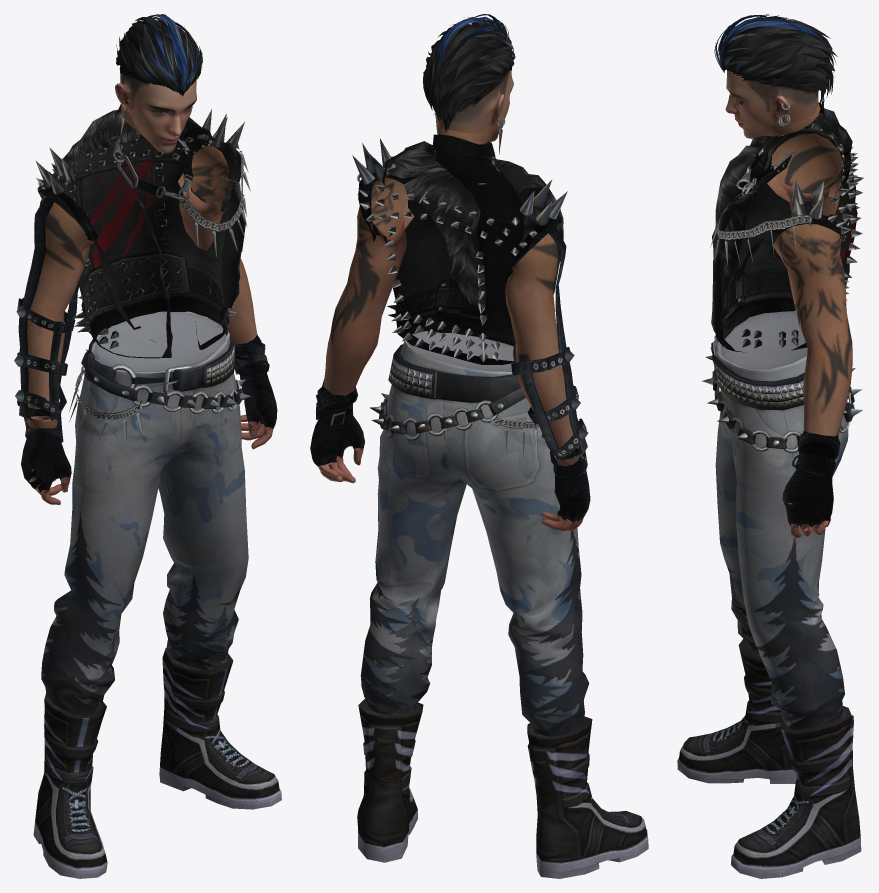
The model's file is A futuristic AI assistant standing naturally _variant1 (1).glb.
3 views of the same model, side by side, from view 1: azimuth 30°, elevation 25°; view 2: azimuth 150°, elevation 25°; view 3: azimuth 270°, elevation 25° (orthographic). The views are drawn at different scales.
Visible parts, largest first — view 1: Mesh_0099.rip, Mesh_0116.rip, Mesh_0098.rip, Mesh_0097.rip, Mesh_0117.rip; view 2: Mesh_0099.rip, Mesh_0116.rip, Mesh_0097.rip, Mesh_0098.rip, Mesh_0117.rip; view 3: Mesh_0099.rip, Mesh_0116.rip, Mesh_0098.rip, Mesh_0097.rip, Mesh_0117.rip.
Boxes of the visible parts, x1,y1,x2,y2 form: Mesh_0099.rip: [41, 311, 251, 714]; Mesh_0116.rip: [14, 104, 277, 492]; Mesh_0098.rip: [33, 648, 281, 878]; Mesh_0097.rip: [27, 60, 273, 504]; Mesh_0117.rip: [116, 14, 202, 96]; Mesh_0099.rip: [360, 331, 589, 736]; Mesh_0116.rip: [310, 134, 590, 522]; Mesh_0097.rip: [318, 70, 583, 531]; Mesh_0098.rip: [357, 699, 648, 878]; Mesh_0117.rip: [423, 14, 515, 132]; Mesh_0099.rip: [702, 311, 862, 729]; Mesh_0116.rip: [710, 99, 863, 529]; Mesh_0098.rip: [677, 639, 861, 878]; Mesh_0097.rip: [725, 70, 852, 538]; Mesh_0117.rip: [714, 14, 837, 107].
Bounding box in the file's own units: 0.3123 × 0.8868 × 0.185.
6 materials, 6 textured.
